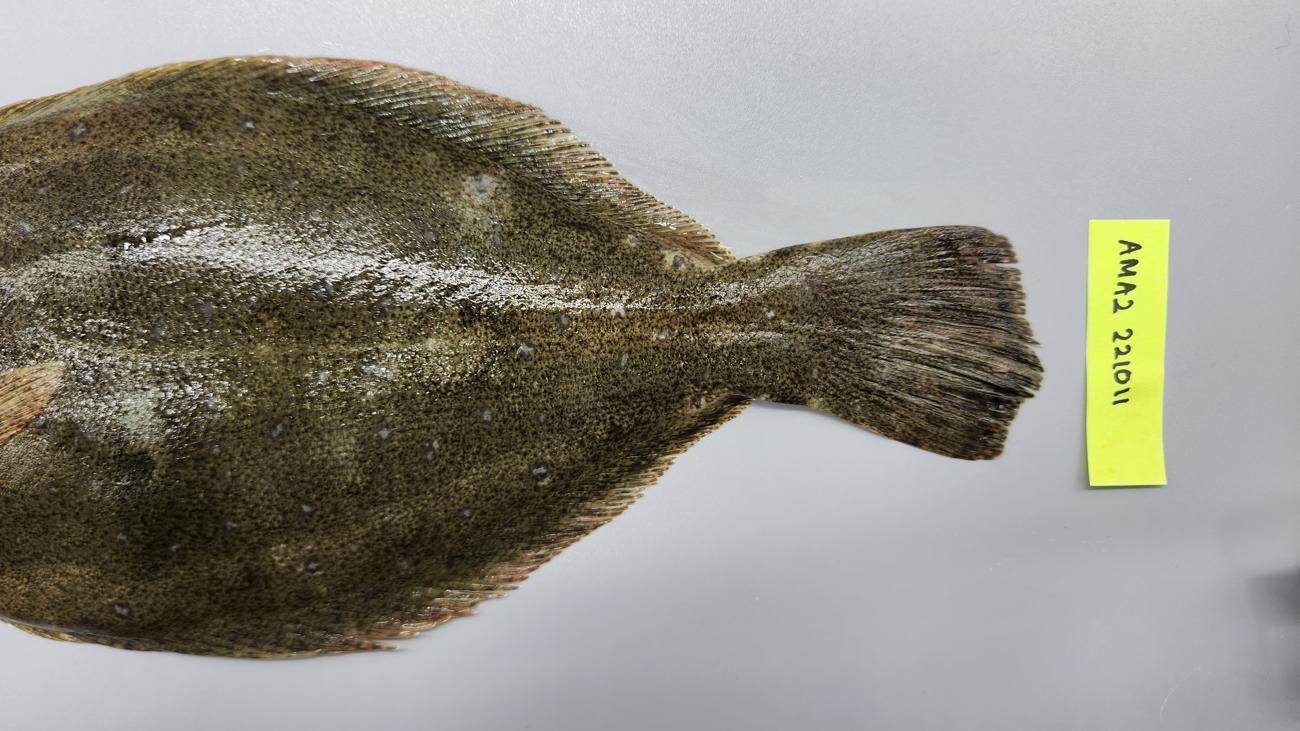MAFCH: (852, 236, 1025, 459)
